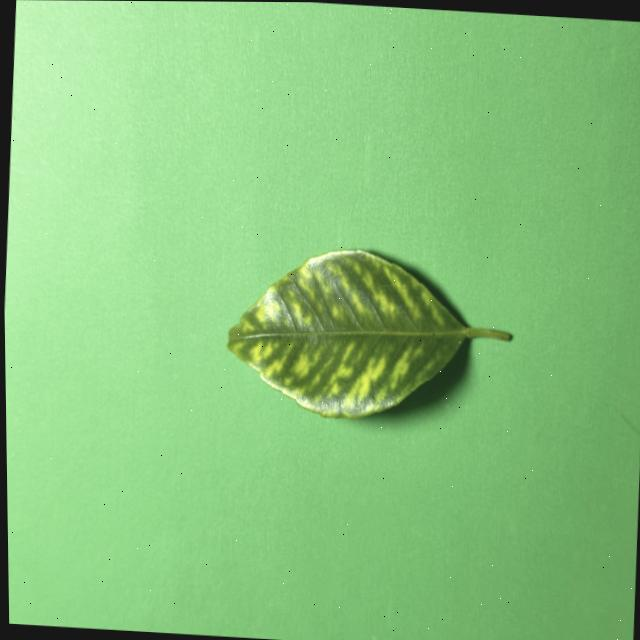greening: (228, 250, 511, 418)
